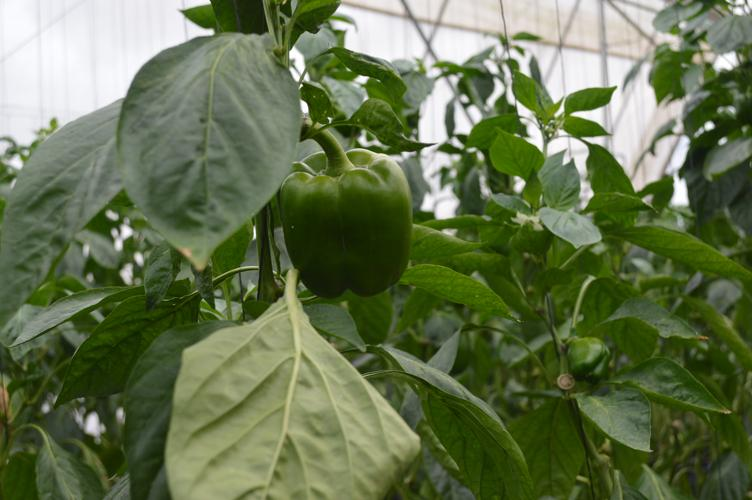BellPepper: (276, 144, 419, 303), (563, 330, 615, 390)
